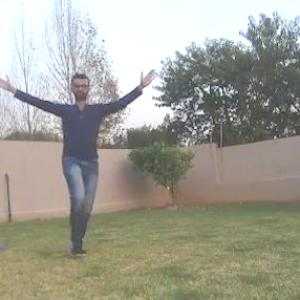takeoff: (1, 75, 142, 259)
